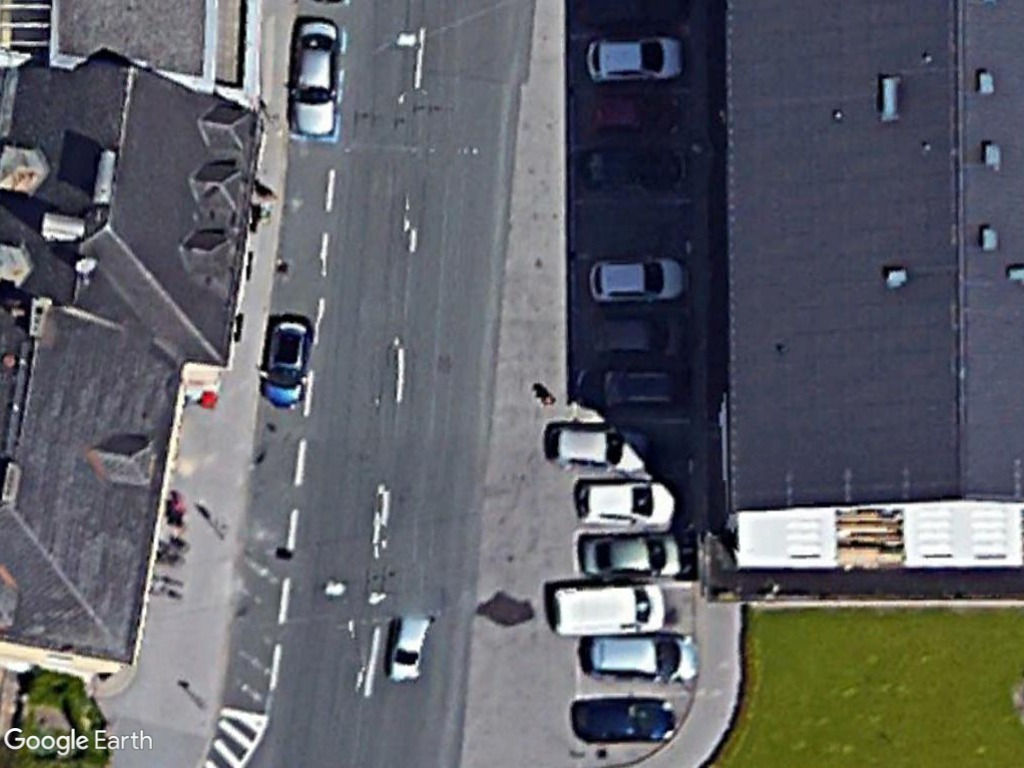car: (283, 10, 340, 144), (578, 626, 705, 686), (566, 692, 683, 750), (543, 419, 658, 478), (572, 471, 682, 530), (258, 306, 314, 413), (579, 32, 688, 86), (581, 254, 693, 306), (578, 531, 690, 582)
van: (541, 579, 670, 636)
